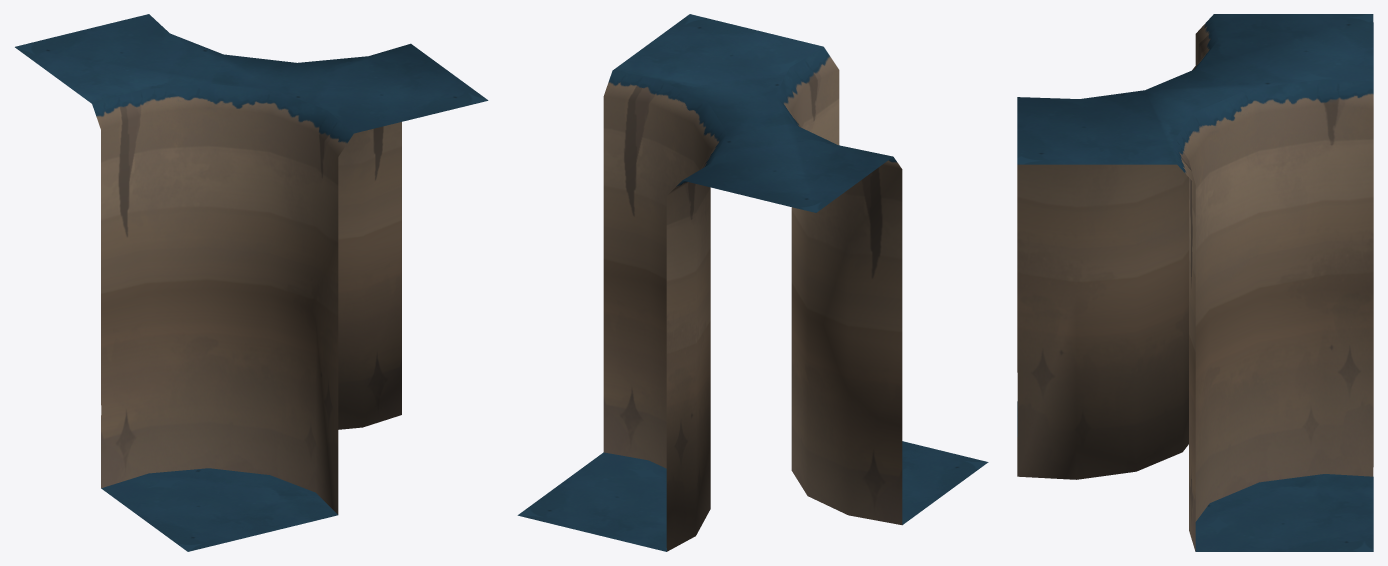
The model's file is hillmergeterrain.fbx.
The picture shows the model from 3 angles, left to right: view 1: azimuth 30°, elevation 25°; view 2: azimuth 150°, elevation 25°; view 3: azimuth 270°, elevation 25°; orthographic projection. The views are drawn at different scales.
Visible parts, largest first — view 1: Cube.001; view 2: Cube.001; view 3: Cube.001.
Part boxes in pixels (left/top/right/bottom): Cube.001: left=15, top=14, right=488, bottom=551; Cube.001: left=517, top=14, right=988, bottom=551; Cube.001: left=1017, top=14, right=1373, bottom=551.
Bounding box in the file's own units: 1 × 1.2 × 1.
